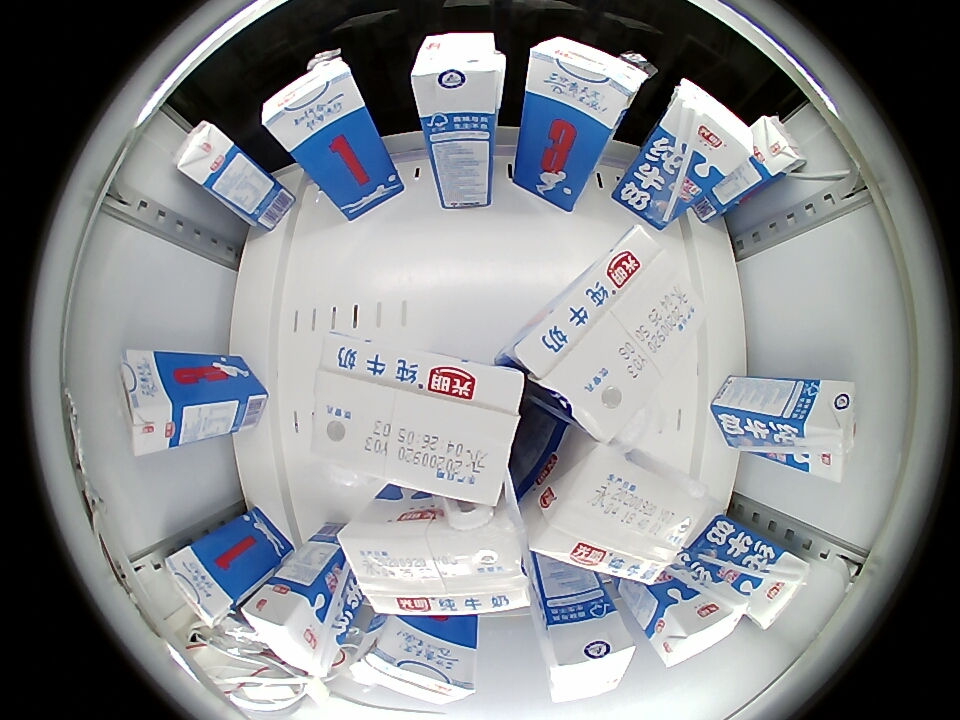niunai: (516, 224, 710, 444), (313, 331, 523, 504), (527, 432, 703, 585), (338, 494, 532, 620), (348, 616, 481, 710), (523, 36, 653, 127), (260, 53, 363, 152), (243, 580, 341, 677), (662, 78, 757, 174), (649, 584, 749, 669), (411, 32, 506, 120), (547, 613, 635, 704), (120, 348, 192, 456), (164, 541, 241, 629), (794, 379, 858, 483), (740, 546, 810, 630), (174, 120, 239, 191), (749, 115, 807, 183)
